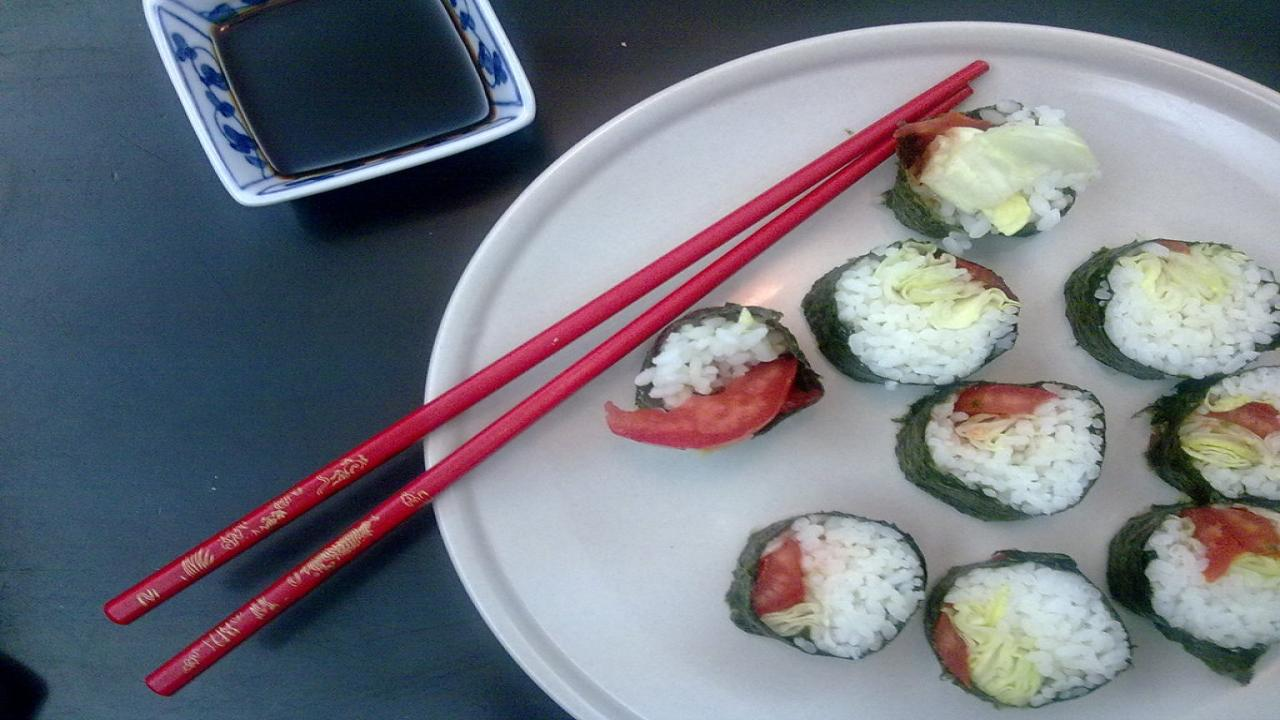chopstick: (106, 56, 986, 694)
